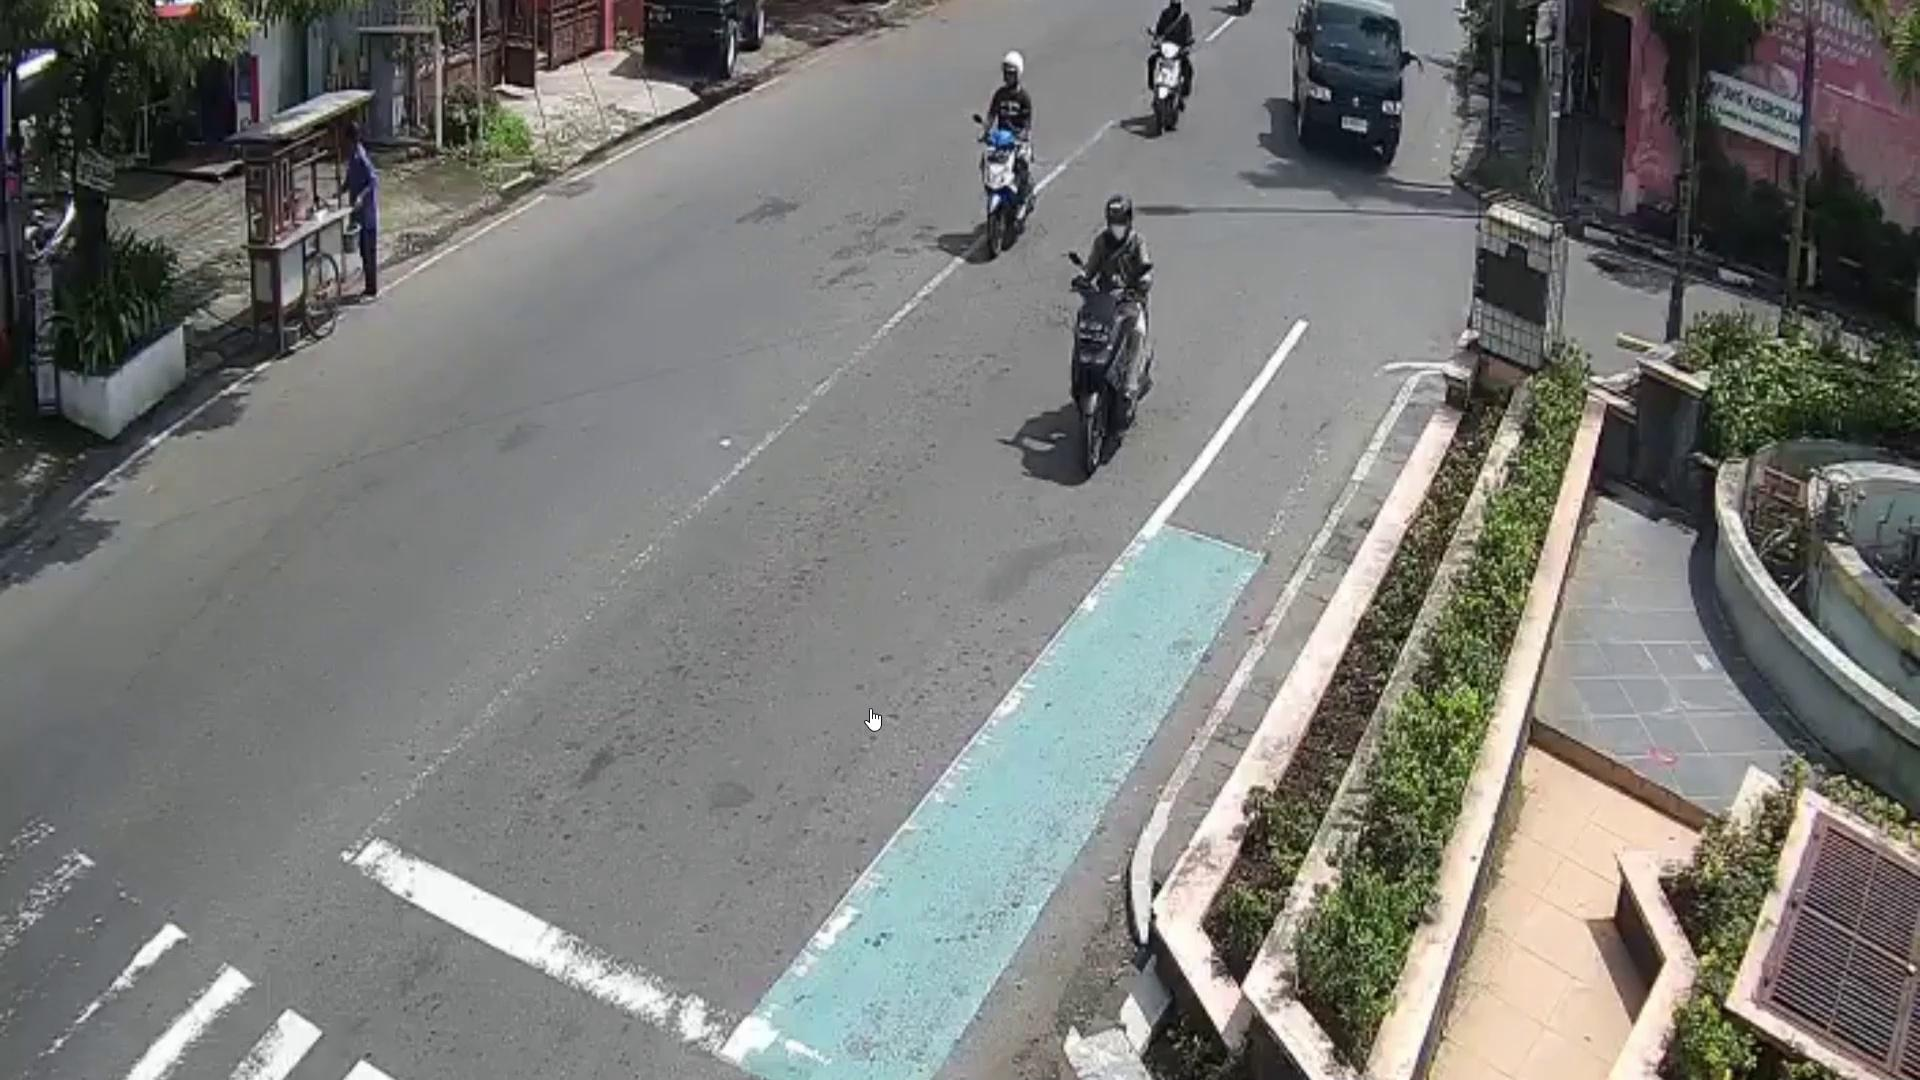car: (1294, 0, 1402, 170)
motorbike: (1067, 278, 1142, 480), (976, 131, 1034, 265), (1147, 40, 1182, 137)
